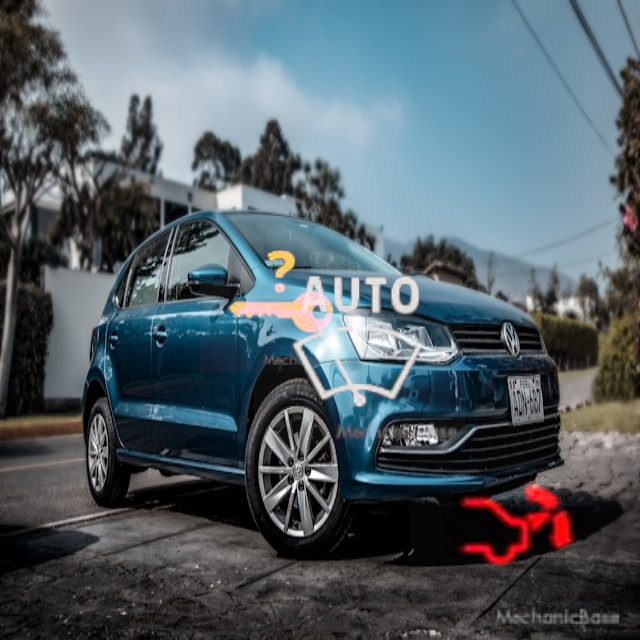symbol: (410, 417, 628, 635), (254, 238, 465, 449), (200, 212, 361, 373)
